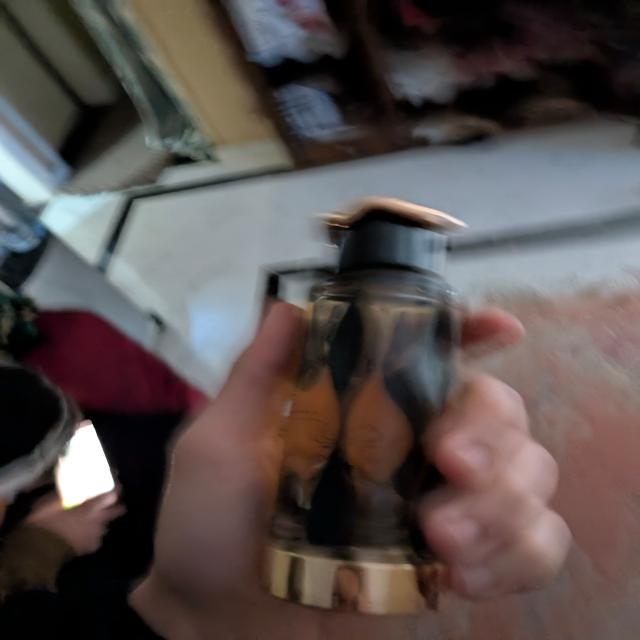Teriaq-Intense: (256, 195, 468, 616)
